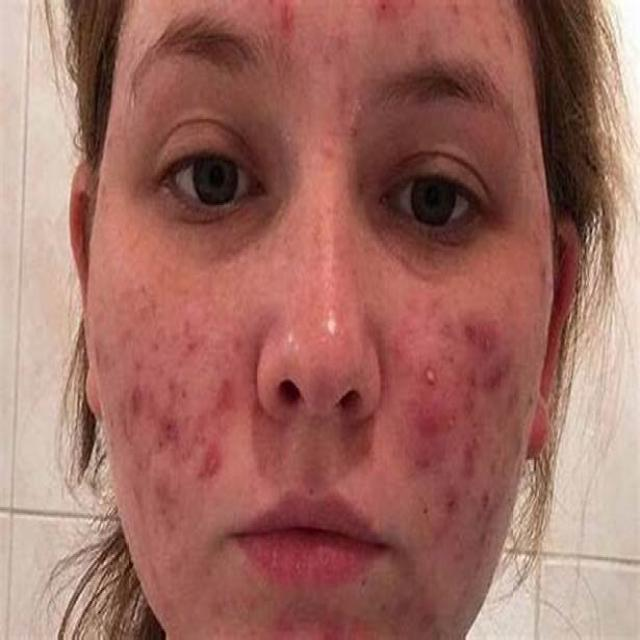acne: (170, 386, 253, 506), (462, 280, 522, 407), (405, 344, 461, 462), (126, 363, 188, 441), (432, 472, 498, 537)
